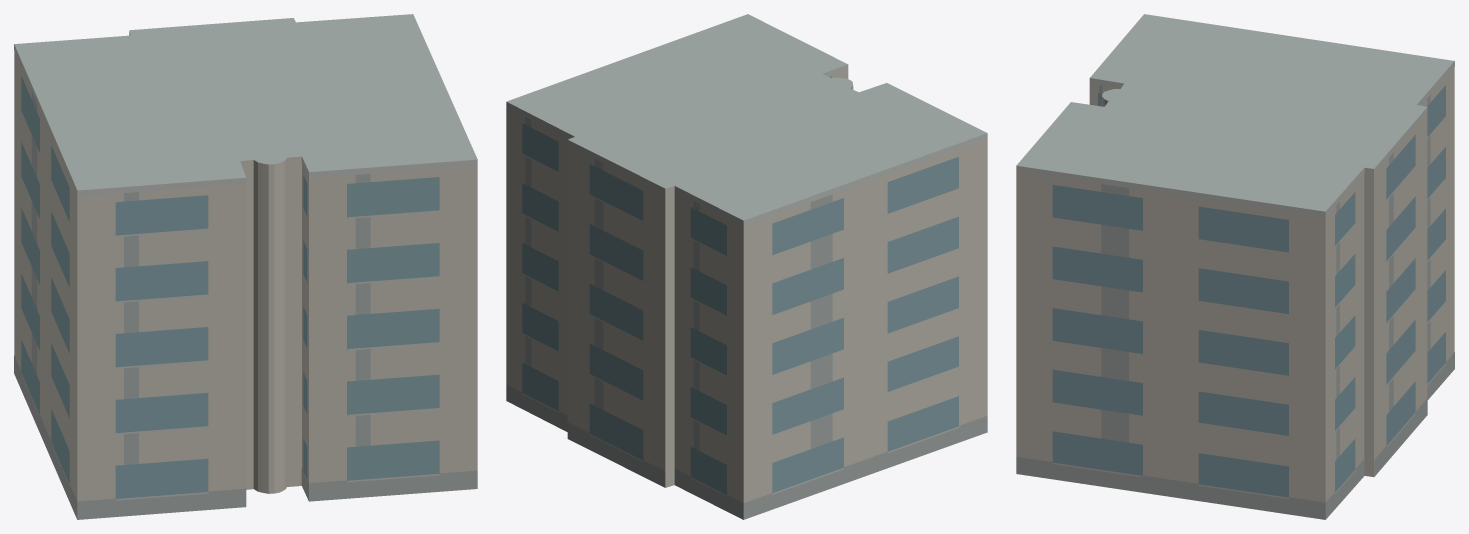
File: survey-upis-32995748.glb
3 renders of one model, left to right at view 1: azimuth 30°, elevation 25°; view 2: azimuth 150°, elevation 25°; view 3: azimuth 270°, elevation 25°, orthographic. The views are drawn at different scales.
Visible parts, largest first — view 1: survey-upis-32995748.tmp; view 2: survey-upis-32995748.tmp; view 3: survey-upis-32995748.tmp.
Boxes of the visible parts, box(x1,y1,x2,y2) form: survey-upis-32995748.tmp: box(14, 14, 477, 519); survey-upis-32995748.tmp: box(506, 14, 987, 519); survey-upis-32995748.tmp: box(1016, 14, 1454, 519).
Bounding box in the file's own units: 17.89 × 13 × 16.77.
